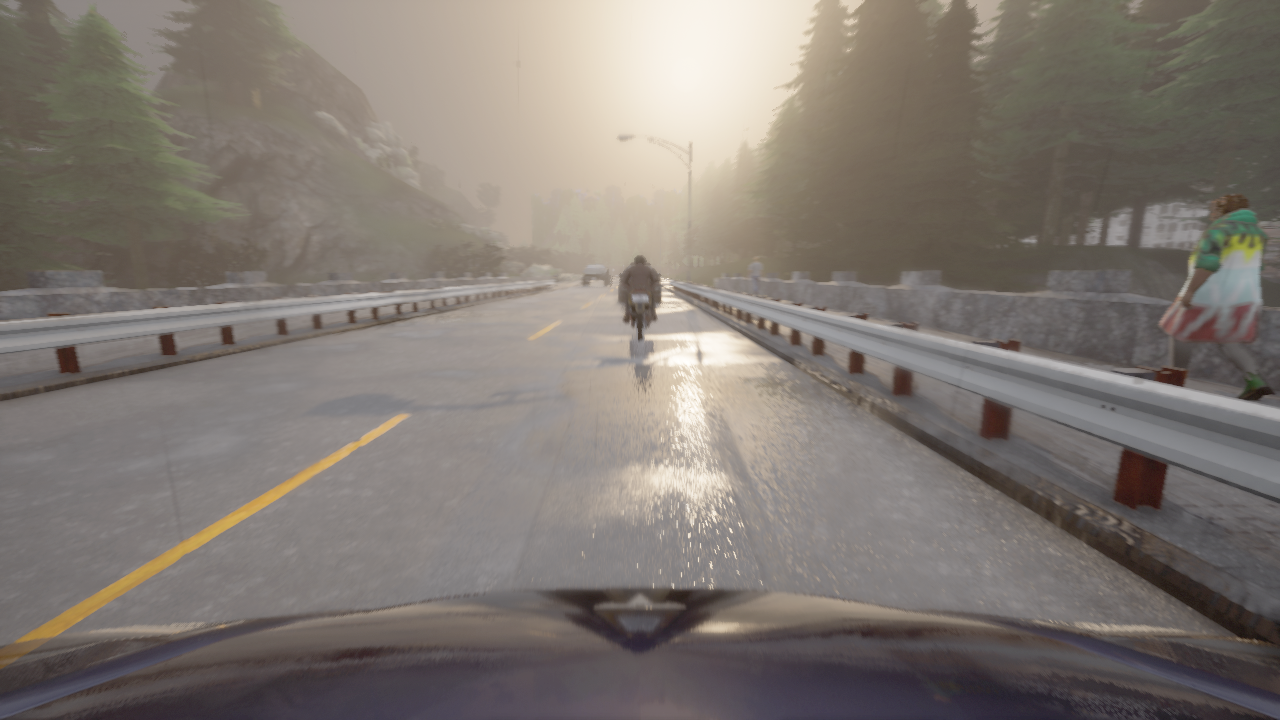cyclist: (0, 588, 1279, 719), (620, 279, 660, 341), (619, 265, 660, 303), (580, 263, 611, 286), (631, 263, 649, 264)
pedestrian: (1159, 194, 1274, 400), (747, 257, 762, 295), (554, 272, 557, 287)
